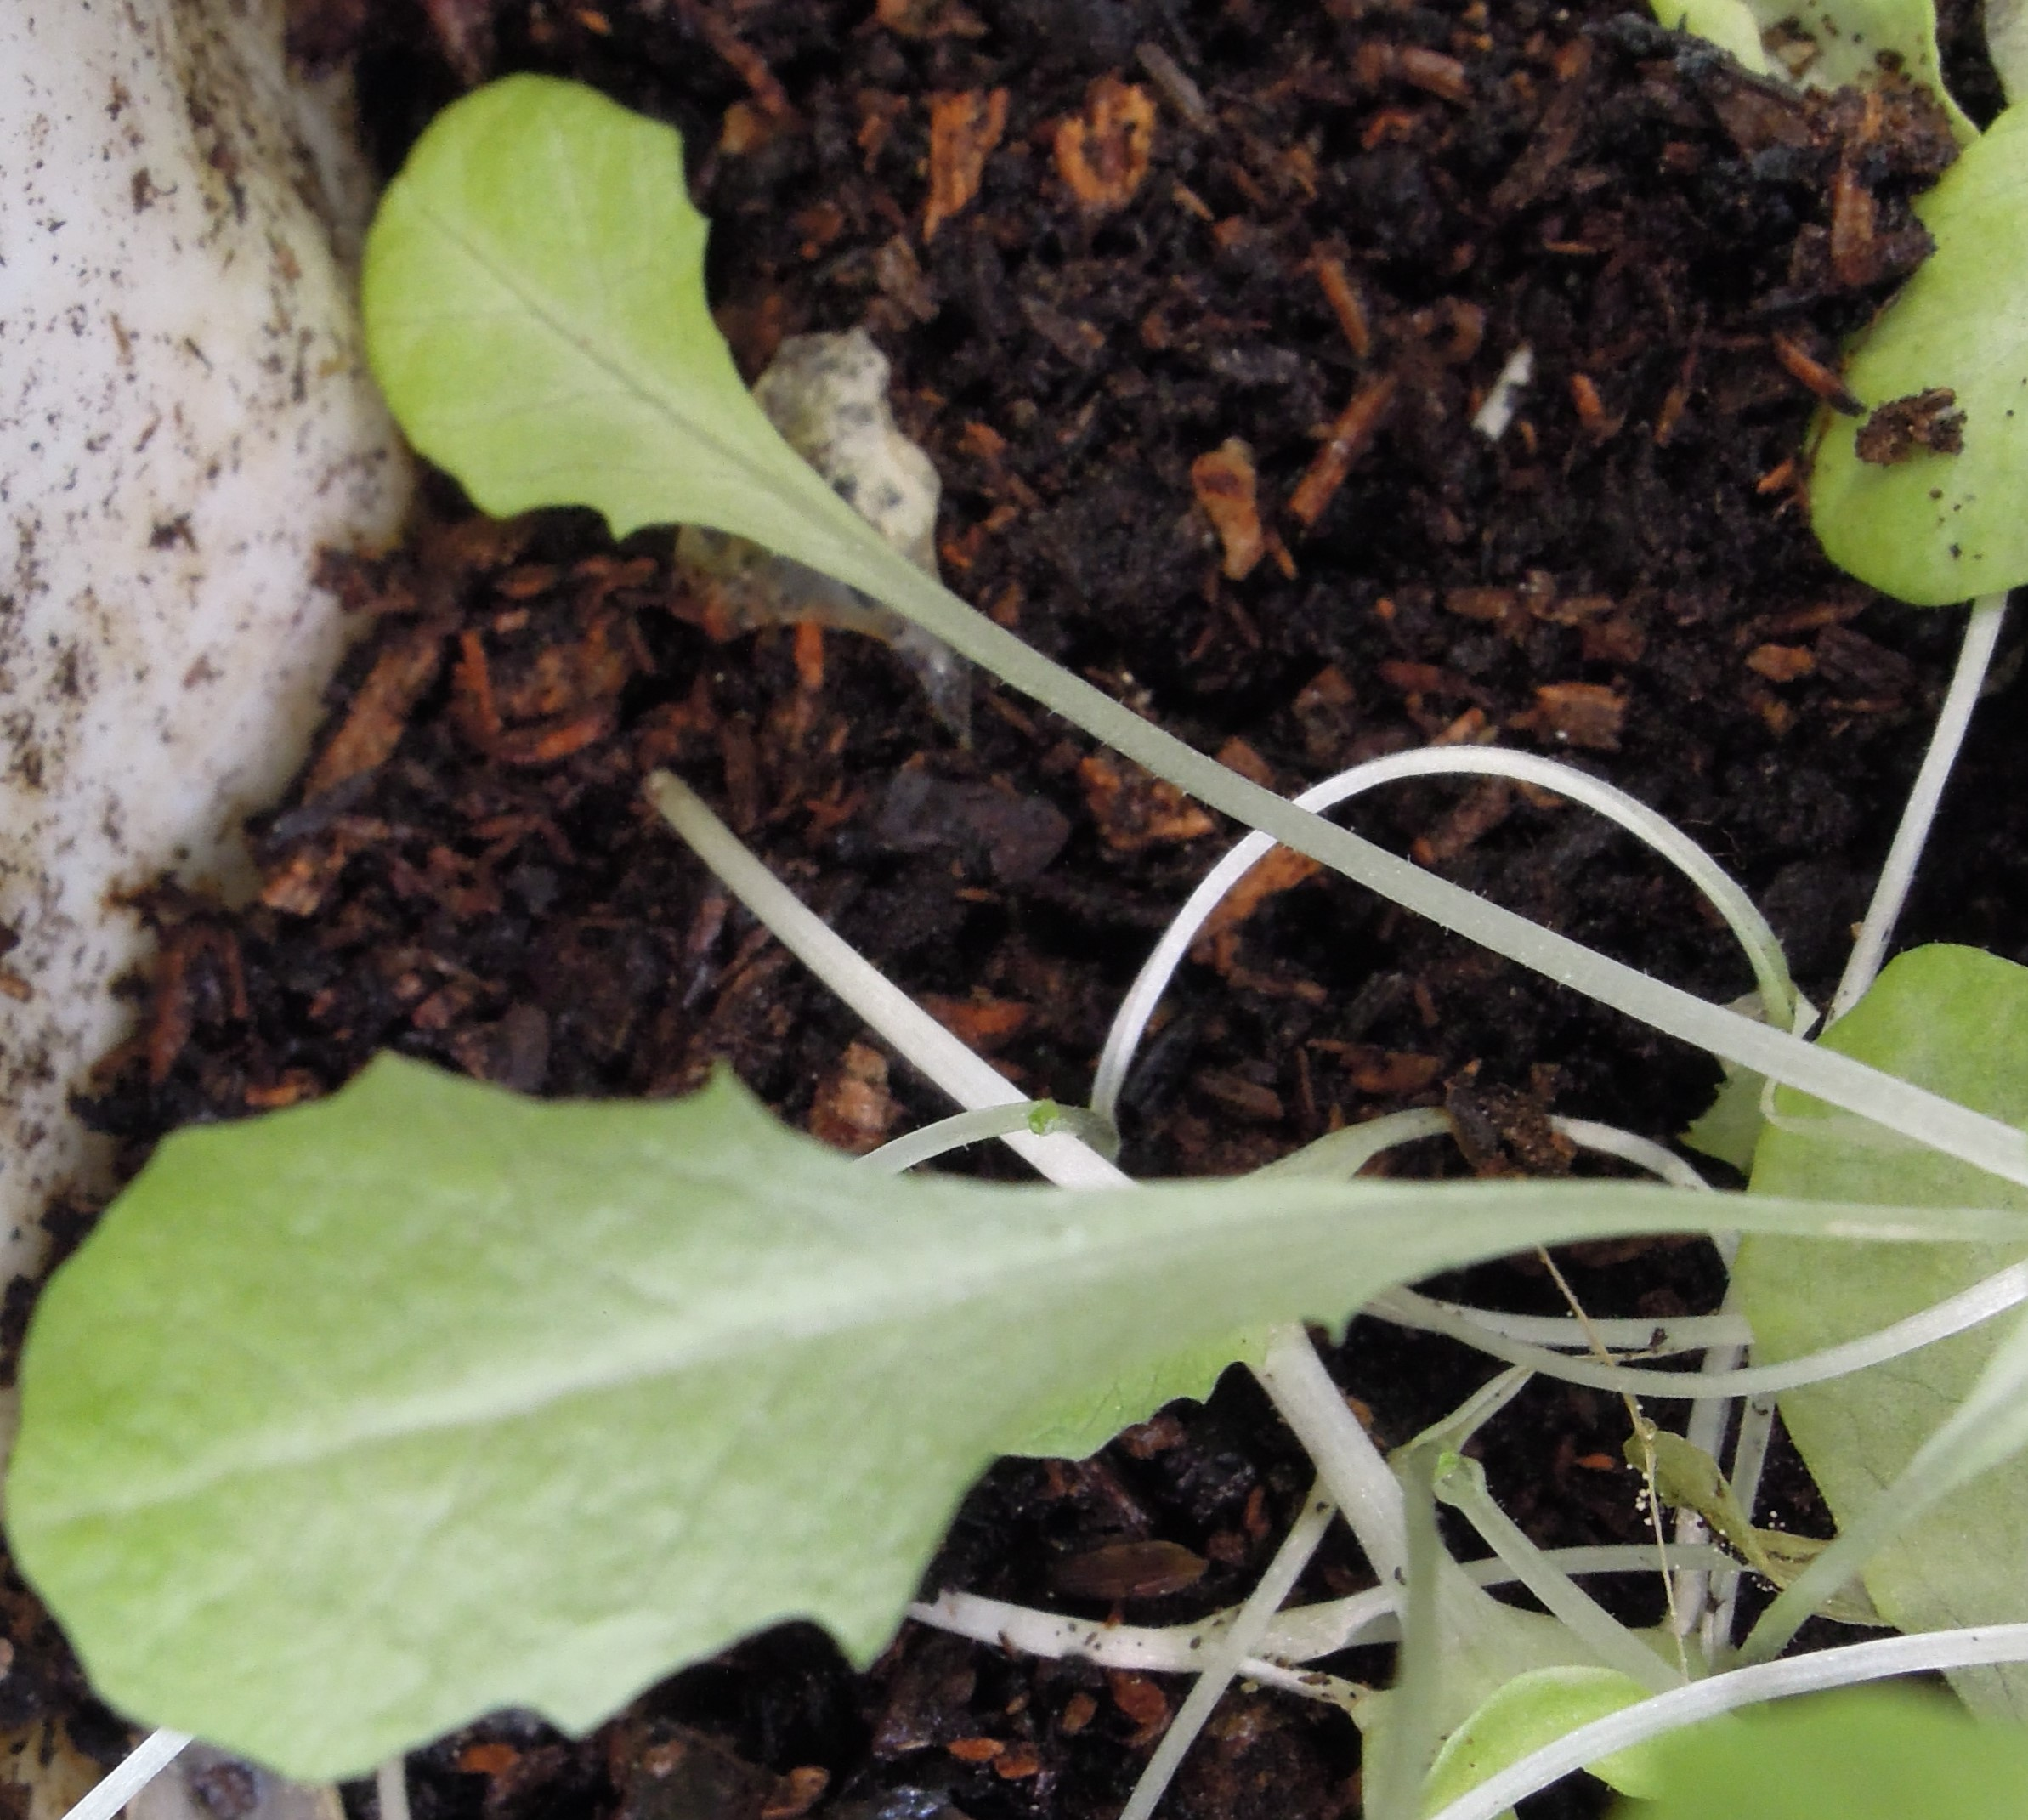week4: (16, 1073, 1721, 1781), (342, 35, 1011, 773)
